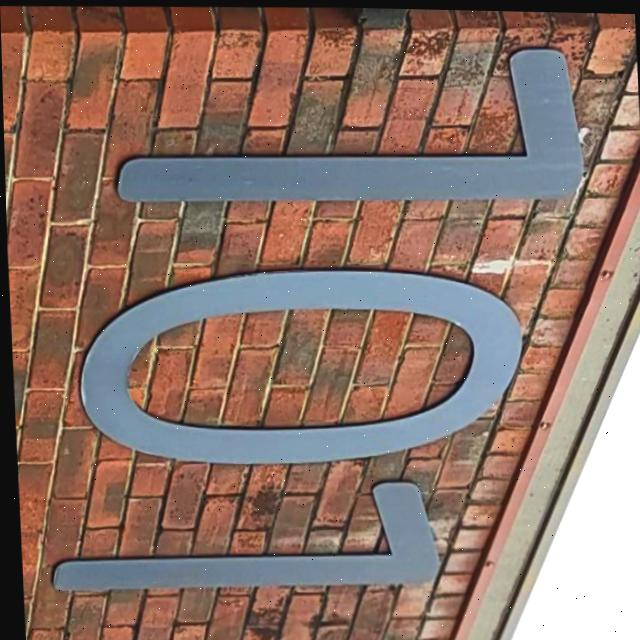character: (62, 253, 533, 482), (97, 27, 596, 229), (38, 467, 456, 609)
